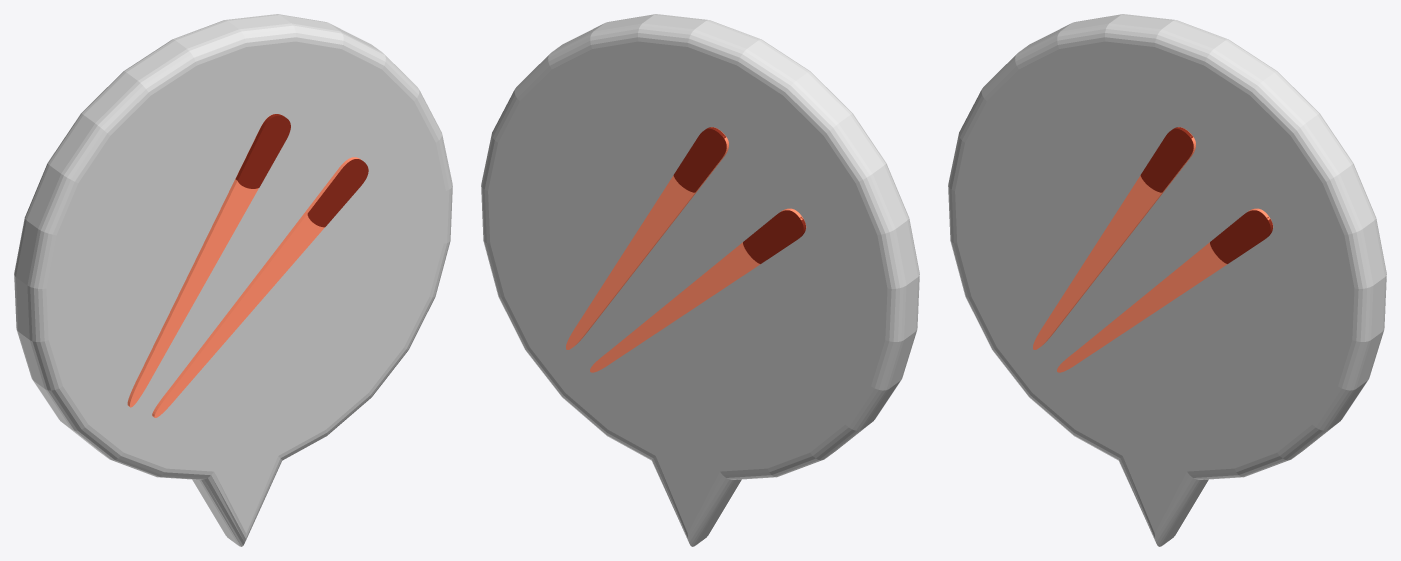
The model's file is chopsticks.glb.
3 views of the same model, side by side, from view 1: azimuth 30°, elevation 25°; view 2: azimuth 150°, elevation 25°; view 3: azimuth 330°, elevation 25° (orthographic).
Visible parts, largest first — view 1: EmotionBubble; view 2: EmotionBubble; view 3: EmotionBubble.
Part boxes in pixels (bbox=[...]): EmotionBubble: bbox=[14, 14, 452, 546]; EmotionBubble: bbox=[481, 14, 919, 546]; EmotionBubble: bbox=[948, 14, 1386, 546].
Bounding box in the file's own units: 5.29 × 6.16 × 0.688.
